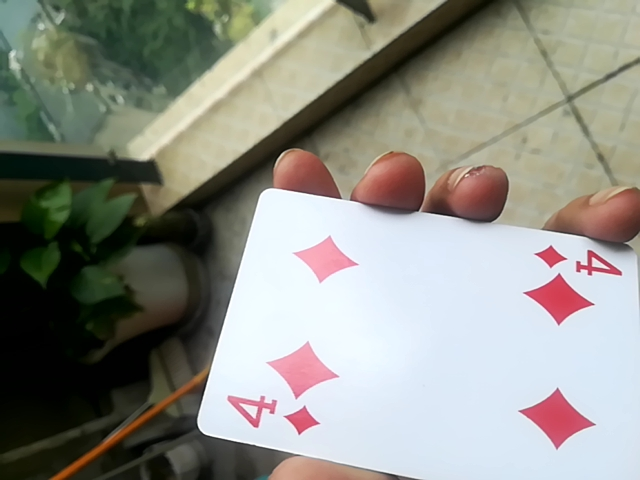fk 4: (188, 186, 640, 480)
